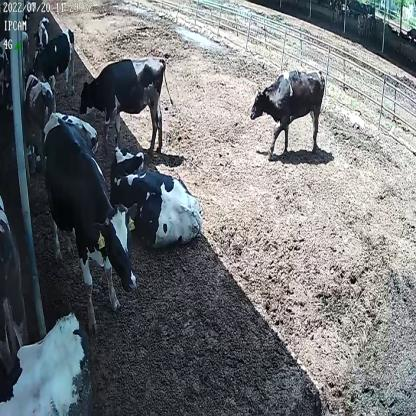cow: (40, 114, 140, 328), (108, 144, 204, 249), (80, 54, 173, 152), (249, 67, 327, 165), (31, 27, 78, 95), (33, 14, 51, 52)
